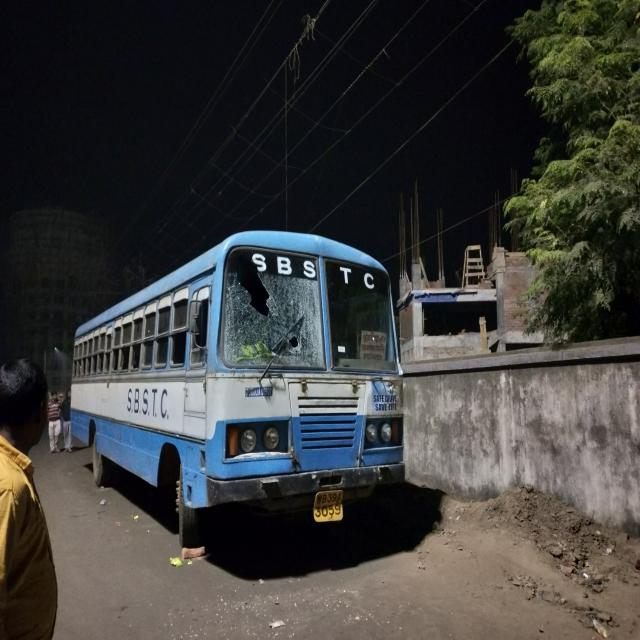Bus: (70, 232, 405, 547)
